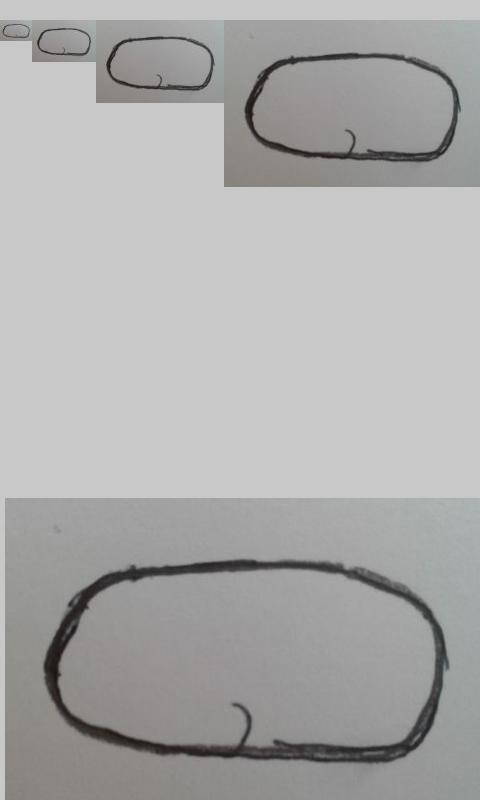chip: (40, 558, 448, 764), (244, 53, 460, 163), (106, 36, 215, 91), (37, 28, 91, 56), (2, 24, 31, 39)
